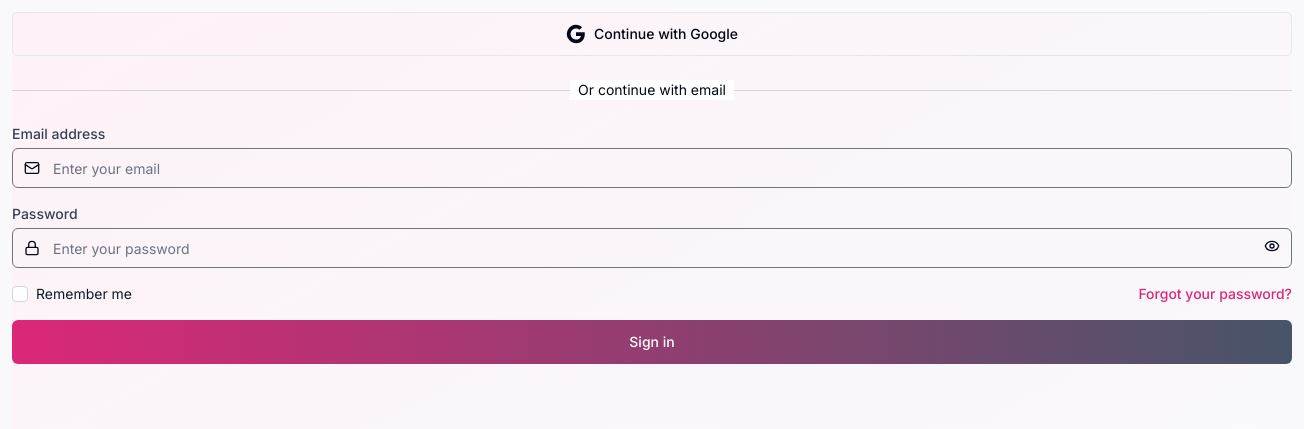
SignInForm Component › Form Validation › shows validation errors for empty fields
What coordinates should you click on to do the following:
click the button "Sign in"
I would click on:
 (652, 342)
Its box is [12,320,1292,364].
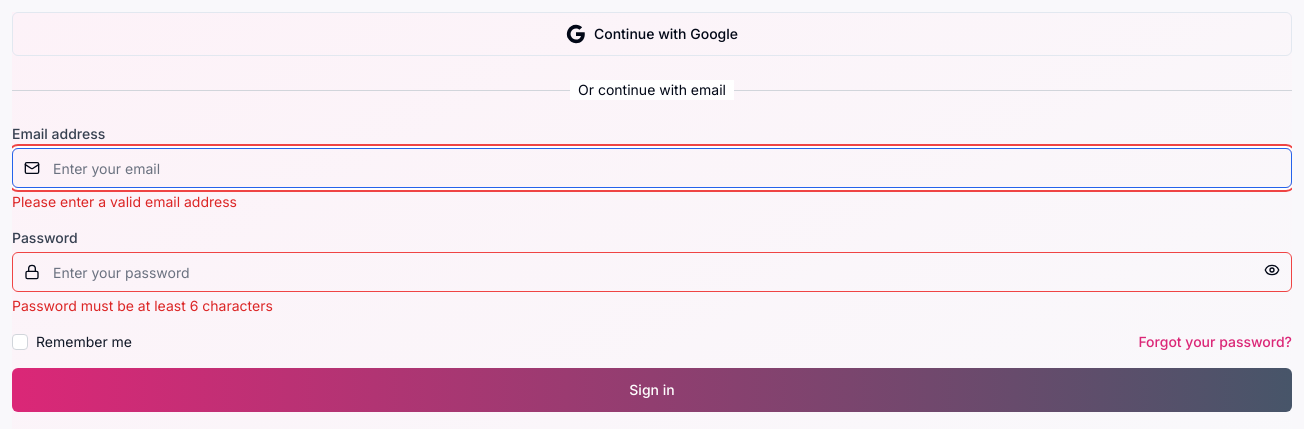
Check: the text "Please enter a valid email address" is shown, box [12,193,237,210]
Check: the text "Password must be at least 6 characters" is shown, box [12,297,273,314]
